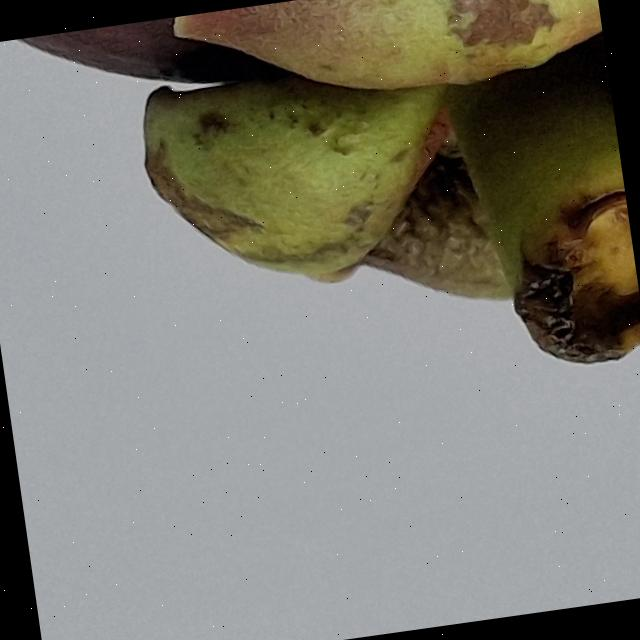mangosteen: (0, 0, 640, 508)
